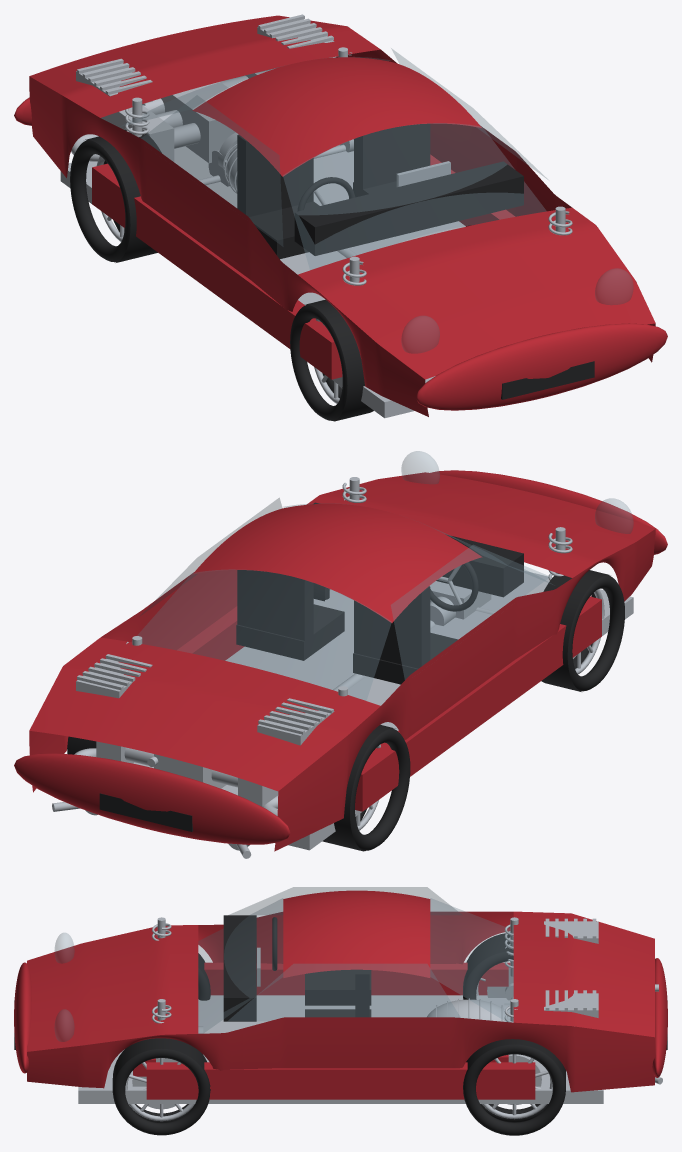
Rendered from porsche-9922-systems.glb.
3 renders of one model, top to bottom at view 1: azimuth 30°, elevation 25°; view 2: azimuth 150°, elevation 25°; view 3: azimuth 270°, elevation 25°, orthographic. The views are drawn at different scales.
Parts seen in each view (by area): view 1: hood / Original curved panel, windshield / Curved glazing, roof / Original curved panel, rear-lid / Original curved panel, front-fascia / Representative surface, dashboard / Envelope, left-sill / Envelope, left-side-glass / Side glazing, left-door / Original curved side panel, left-rear-fender / Original curved side panel, body / Floor envelope, left-front-fender / Original curved side panel (+16 smaller); view 2: rear-lid / Original curved panel, rear-glass / Curved glazing, roof / Original curved panel, hood / Original curved panel, rear-fascia / Representative surface, left-side-glass / Side glazing, left-sill / Envelope, body / Floor envelope, left-rear-fender / Original curved side panel, left-door / Original curved side panel, right-seat / Seat back, left-seat / Seat back (+22 smaller); view 3: hood / Original curved panel, rear-lid / Original curved panel, right-sill / Envelope, roof / Original curved panel, right-rear-fender / Original curved side panel, right-side-glass / Side glazing, right-door / Original curved side panel, body / Floor envelope, rear-glass / Curved glazing, windshield / Curved glazing, right-front-fender / Original curved side panel, left-sill / Envelope (+24 smaller).
Boxes of the visible parts, x1=… form: hood / Original curved panel: x1=298, y1=207, x2=655, y2=379; windshield / Curved glazing: x1=283, y1=123, x2=546, y2=269; roof / Original curved panel: x1=192, y1=57, x2=481, y2=176; rear-lid / Original curved panel: x1=29, y1=15, x2=380, y2=117; front-fascia / Representative surface: x1=416, y1=323, x2=667, y2=410; dashboard / Envelope: x1=294, y1=161, x2=523, y2=255; left-sill / Envelope: x1=92, y1=163, x2=342, y2=379; left-side-glass / Side glazing: x1=141, y1=95, x2=283, y2=246; left-door / Original curved side panel: x1=164, y1=156, x2=273, y2=298; left-rear-fender / Original curved side panel: x1=29, y1=76, x2=166, y2=218; body / Floor envelope: x1=60, y1=145, x2=465, y2=418; left-front-fender / Original curved side panel: x1=271, y1=248, x2=428, y2=416; rear-lid / Original curved panel: x1=29, y1=637, x2=380, y2=791; rear-glass / Curved glazing: x1=137, y1=569, x2=391, y2=700; roof / Original curved panel: x1=192, y1=503, x2=482, y2=622; hood / Original curved panel: x1=307, y1=472, x2=655, y2=577; rear-fascia / Representative surface: x1=14, y1=753, x2=290, y2=844; left-side-glass / Side glazing: x1=391, y1=545, x2=549, y2=679; left-sill / Envelope: x1=355, y1=596, x2=601, y2=811; body / Floor envelope: x1=133, y1=570, x2=633, y2=850; left-rear-fender / Original curved side panel: x1=274, y1=659, x2=431, y2=851; left-door / Original curved side panel: x1=430, y1=592, x2=543, y2=721; right-seat / Seat back: x1=237, y1=570, x2=313, y2=640; left-seat / Seat back: x1=354, y1=586, x2=430, y2=668; hood / Original curved panel: x1=27, y1=925, x2=198, y2=1051; rear-lid / Original curved panel: x1=513, y1=911, x2=654, y2=1037; right-sill / Envelope: x1=146, y1=1062, x2=535, y2=1099; roof / Original curved panel: x1=283, y1=890, x2=430, y2=977; right-rear-fender / Original curved side panel: x1=420, y1=1017, x2=654, y2=1092; right-side-glass / Side glazing: x1=228, y1=964, x2=460, y2=1020; right-door / Original curved side panel: x1=243, y1=1017, x2=420, y2=1069; body / Floor envelope: x1=78, y1=995, x2=603, y2=1103; rear-glass / Curved glazing: x1=430, y1=898, x2=513, y2=1022; windshield / Curved glazing: x1=198, y1=898, x2=282, y2=1033; right-front-fender / Original curved side panel: x1=27, y1=1028, x2=242, y2=1088; left-sill / Envelope: x1=204, y1=962, x2=510, y2=995.
Size of the model in its own units: 1.85 by 1.3 by 4.54.
